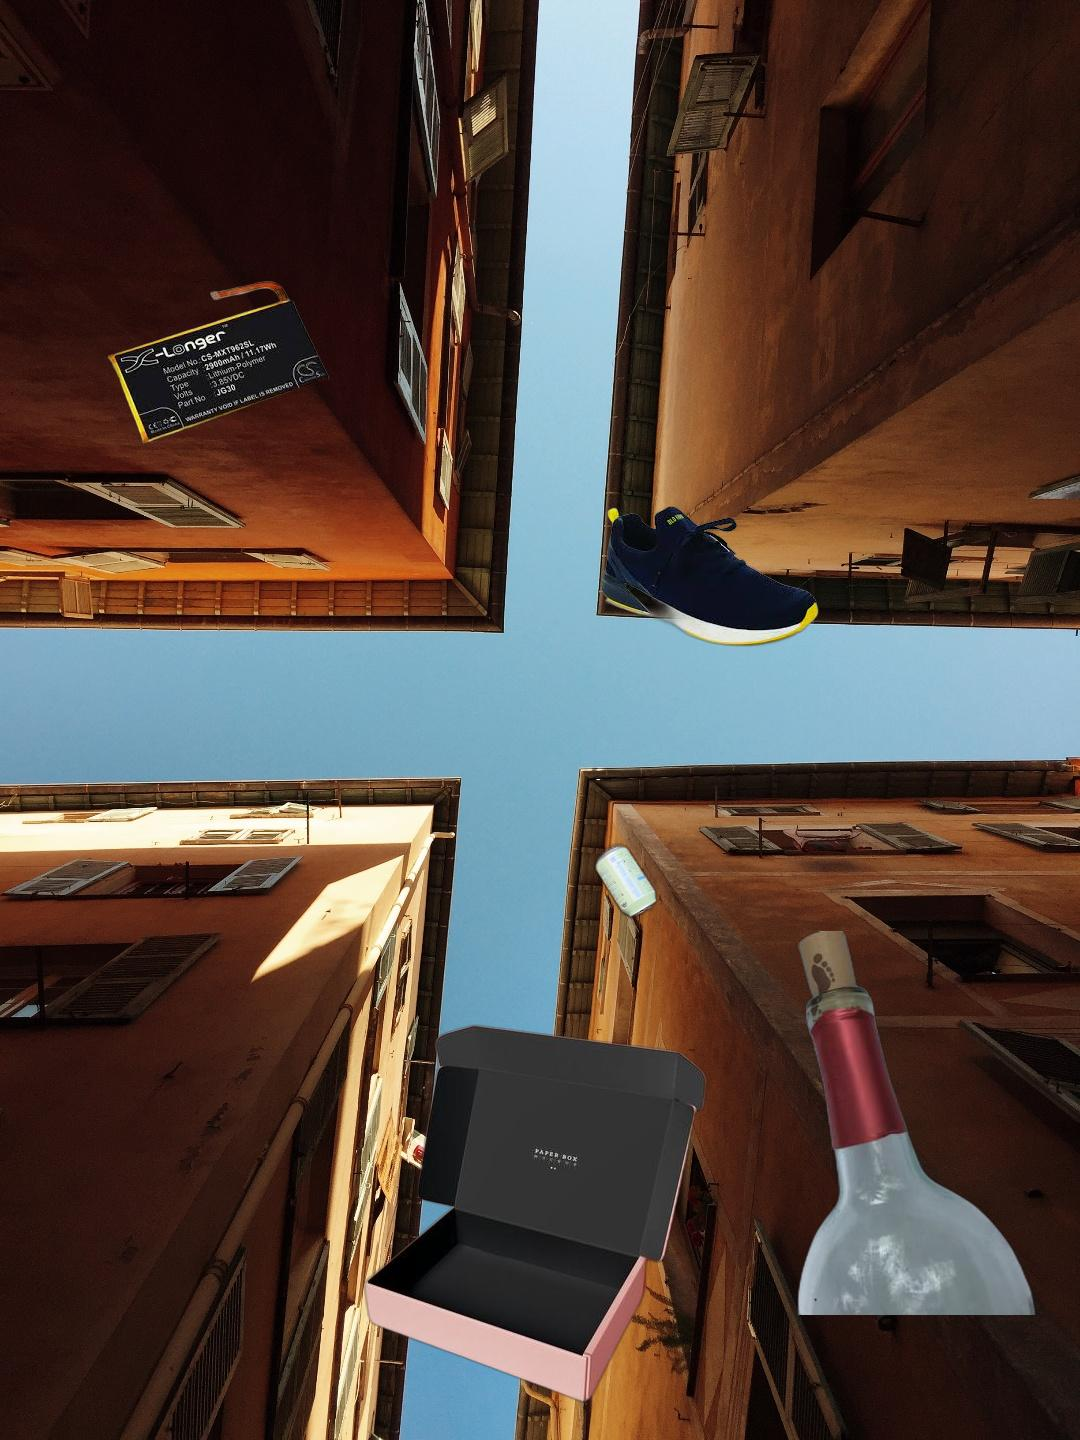battery: (106, 278, 331, 447)
glass: (793, 931, 1040, 1315)
metal-cans: (589, 840, 783, 1218)
shoes: (597, 505, 821, 698)
trashbox-cardboard: (358, 1022, 712, 1406)
